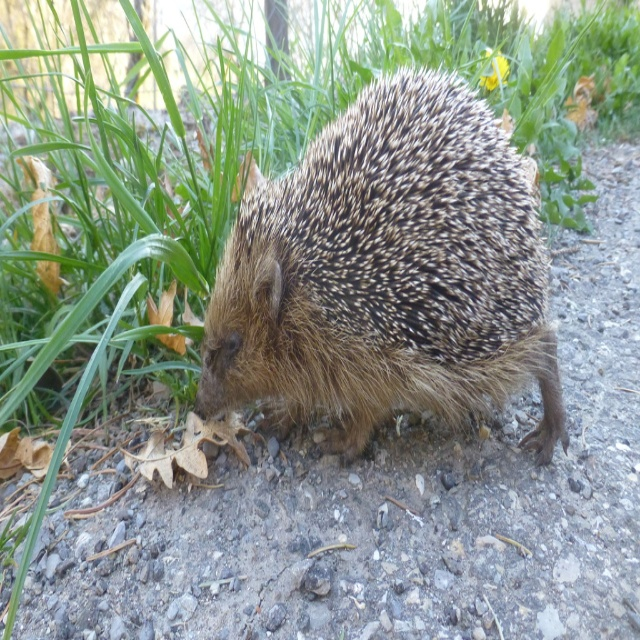Hedgehog: (191, 58, 572, 465)
